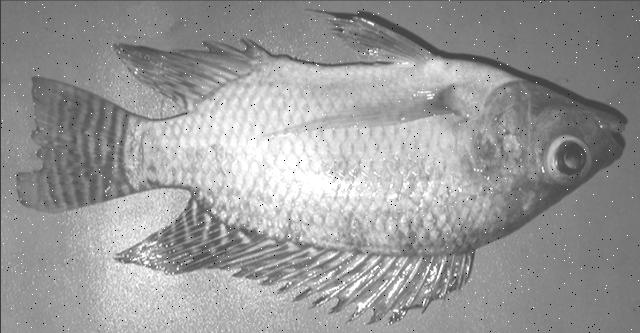Mulut: (594, 101, 636, 174)
Sirip Anal: (114, 33, 260, 117)
Sirip Dada: (258, 84, 462, 142)
Sirip Ekor: (5, 67, 145, 221)
Sirip Perut: (303, 7, 439, 75)
Sirip Punggung: (116, 192, 484, 328)
